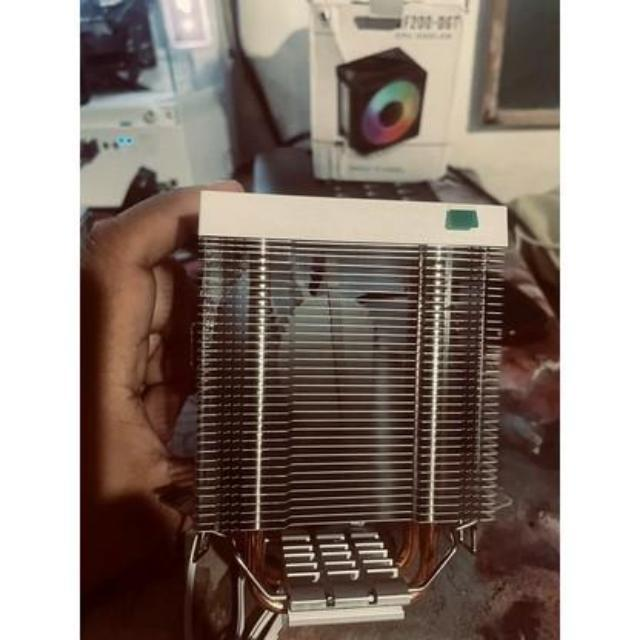CPU_Fan: (188, 188, 504, 632)
